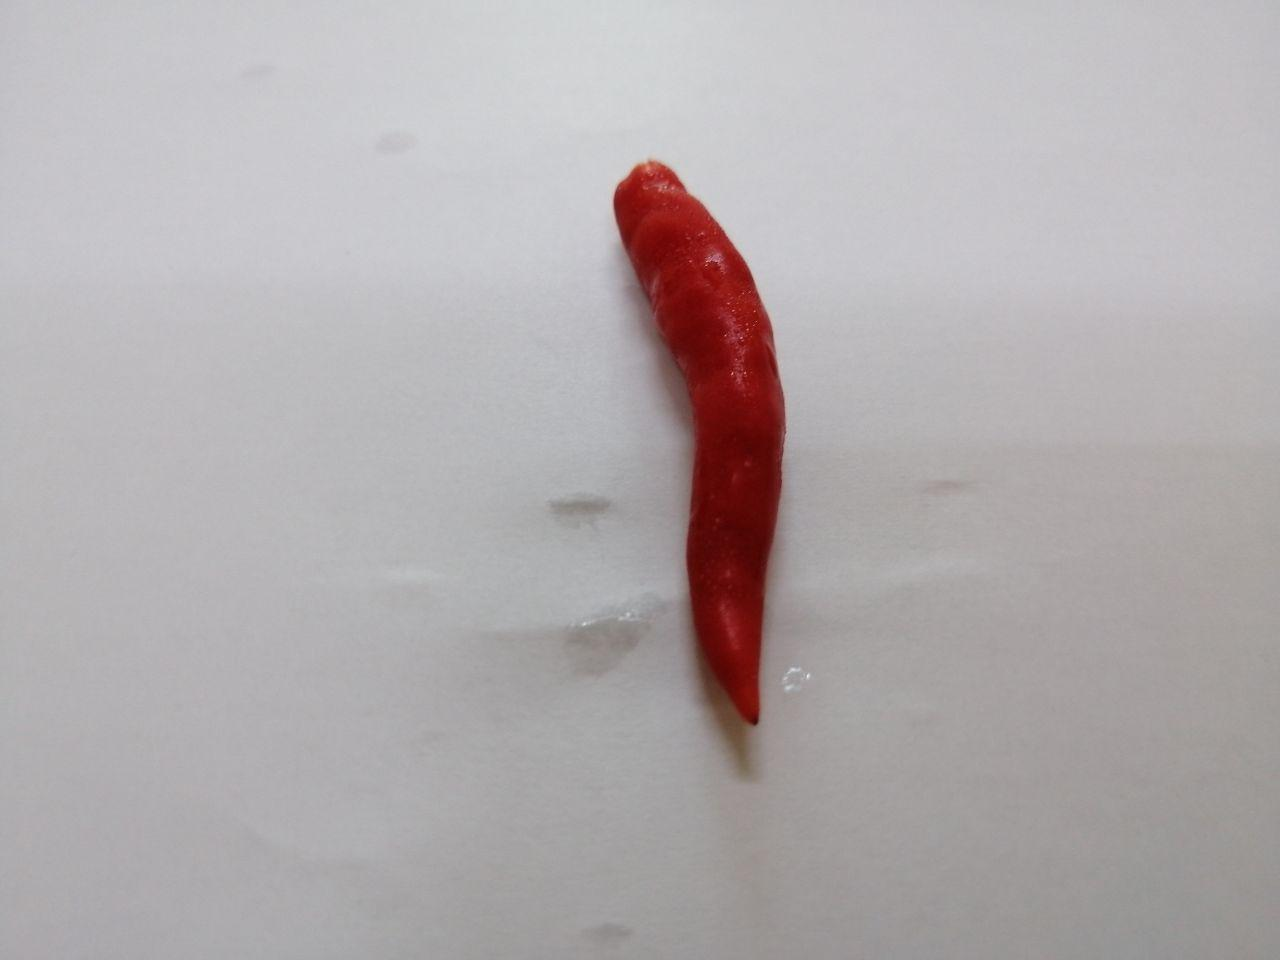lada merah: (566, 133, 815, 764)
